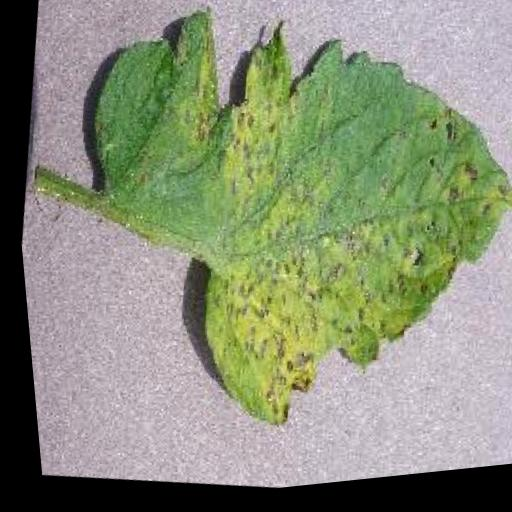Septoria: (36, 0, 512, 487)
